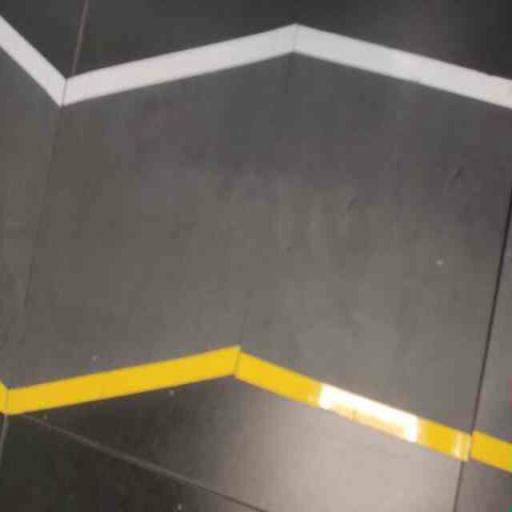crossleft: (2, 4, 303, 428)
